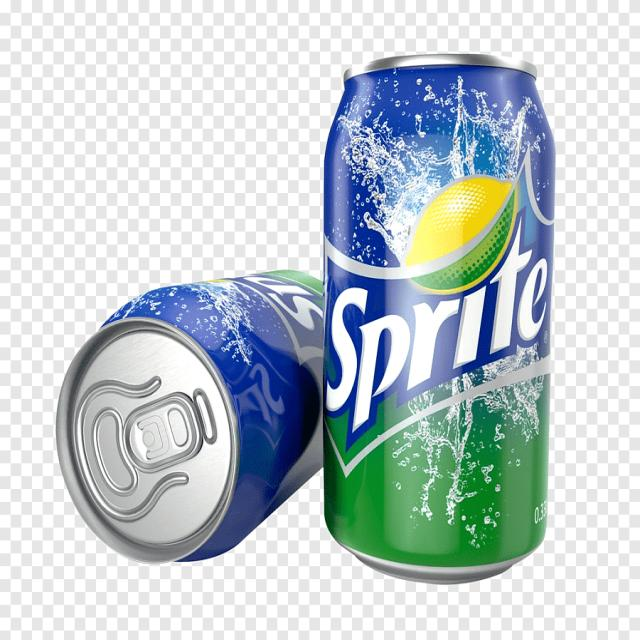sprite: (313, 39, 555, 582), (40, 255, 347, 584)
